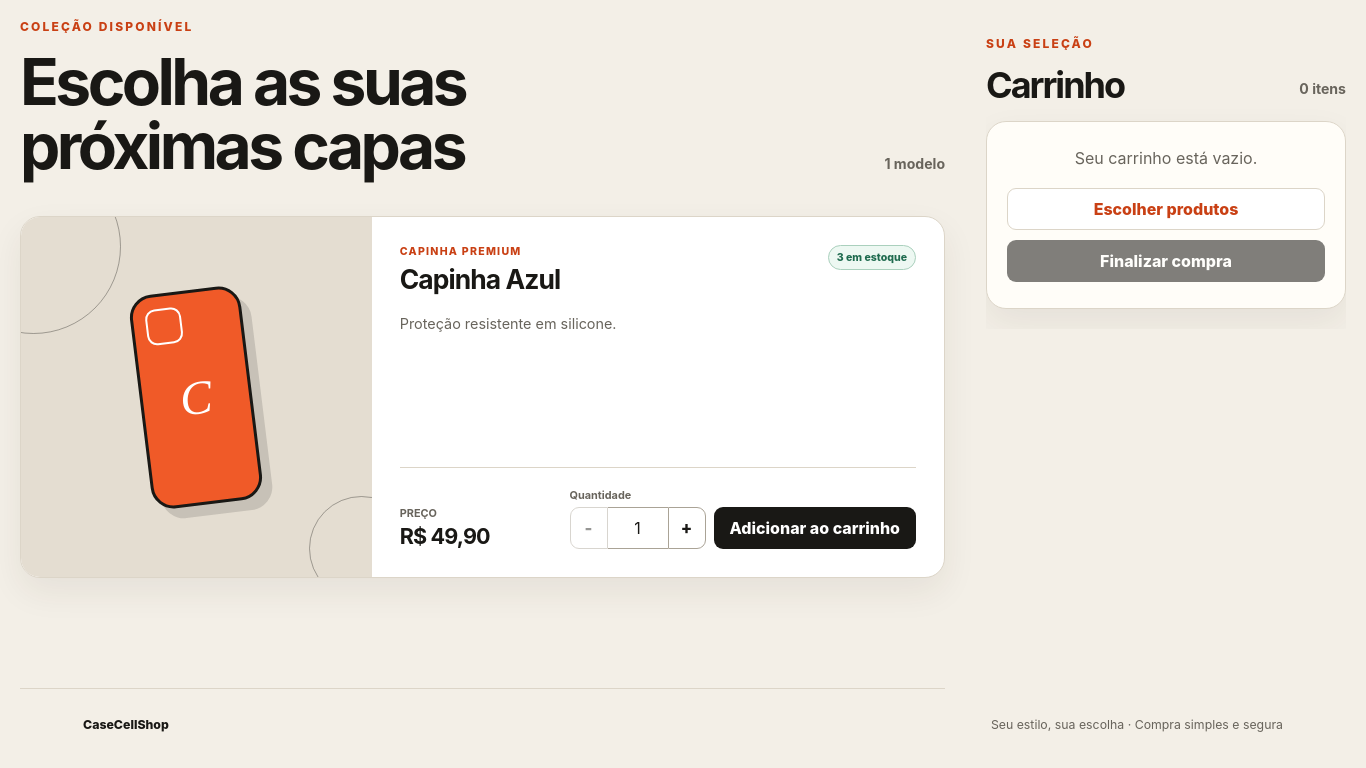
vitrine CaseCellShop › desabilita o checkout, evita envio duplicado e limpa após confirmação
(page scrolled)
Click the button "Adicionar ao carrinho": (815, 528) [714, 507, 916, 549]
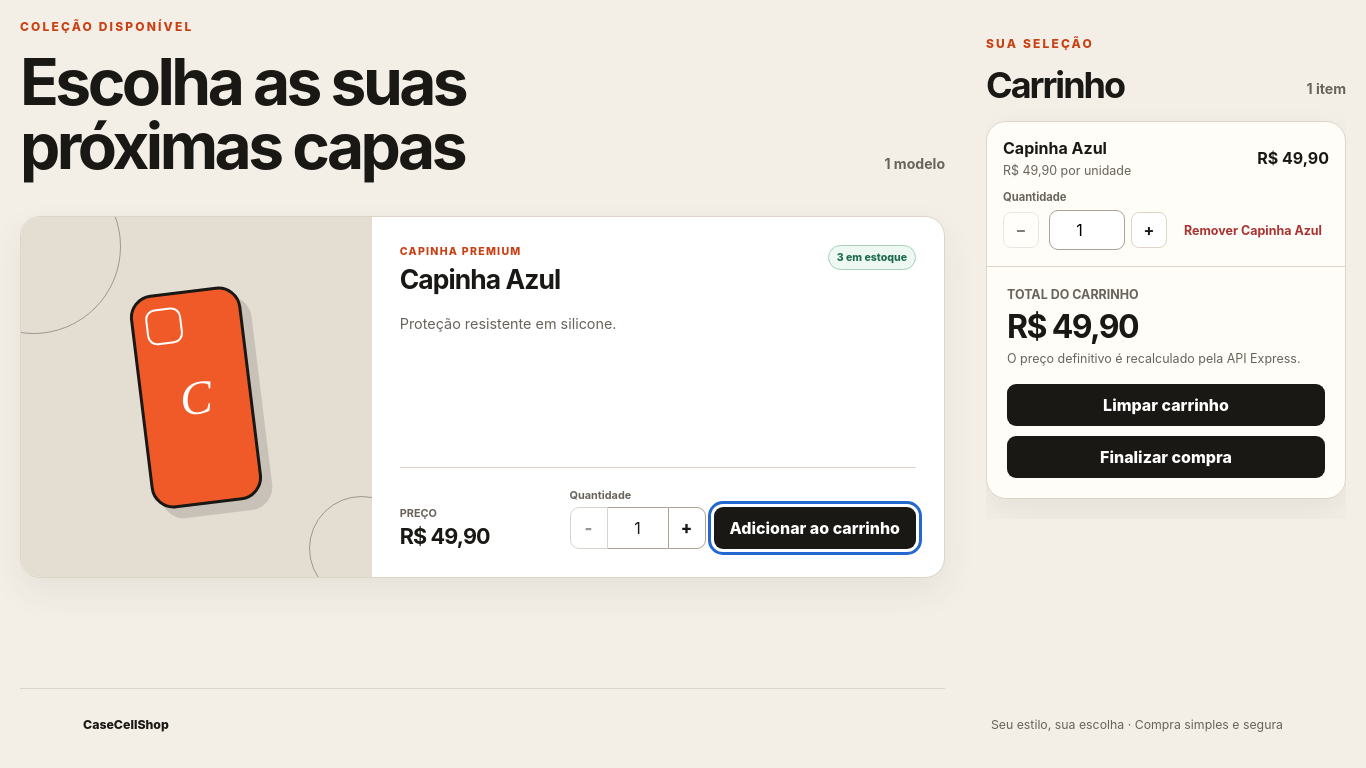
Click the button "Finalizar compra": (1166, 457) [1007, 436, 1325, 478]
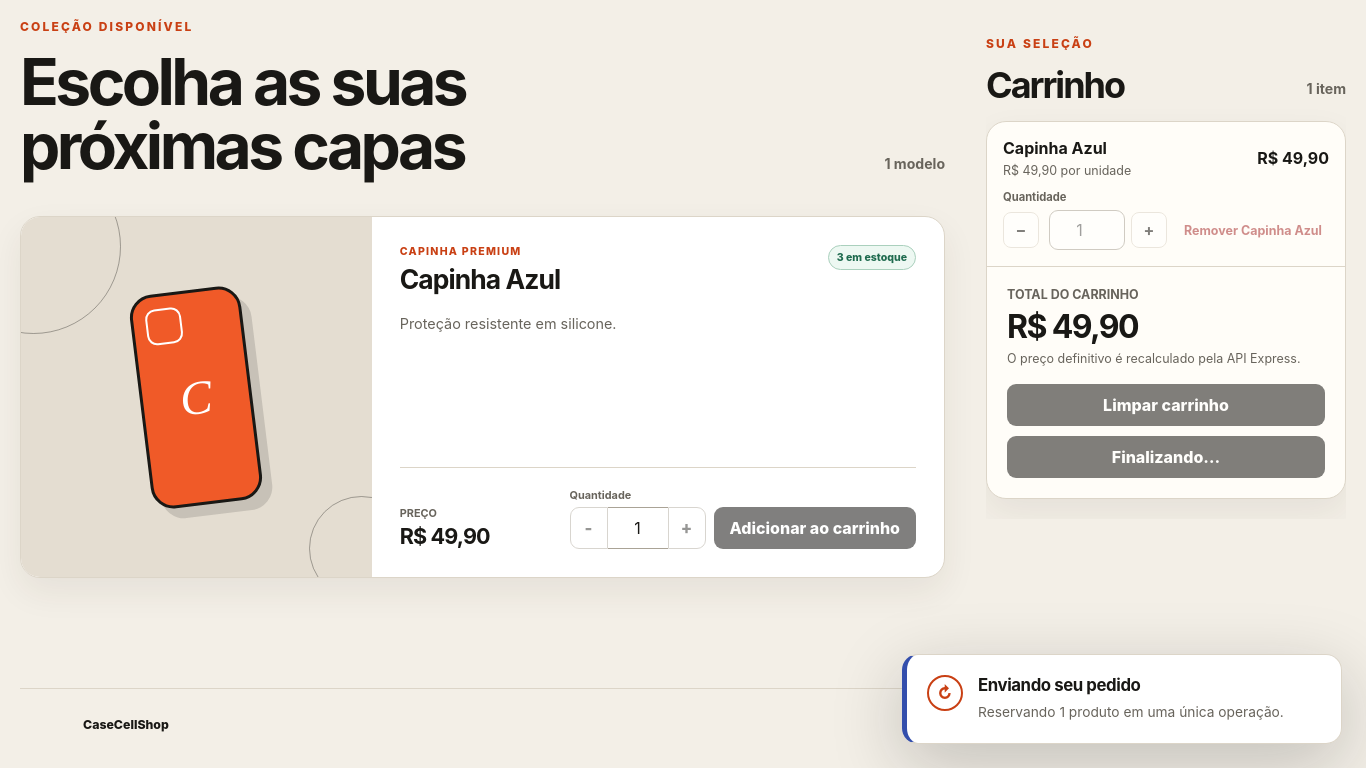
Check: the button "Finalizando…" is disabled
Check: the message shows "Enviando seu pedido", box [978, 675, 1140, 695]
Click the button "Finalizando…": (1166, 457) [1007, 436, 1325, 478]
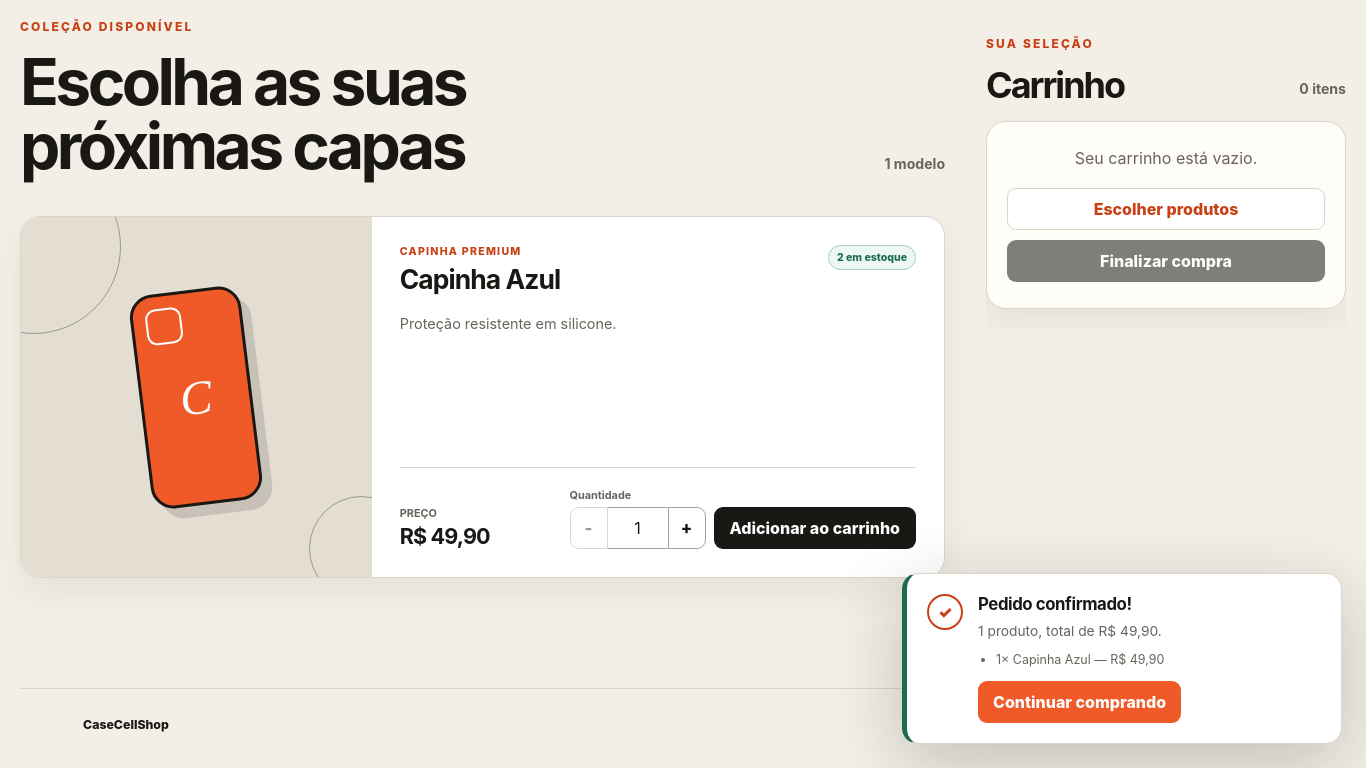
Check: the heading "Pedido confirmado!" is shown, box [978, 594, 1132, 614]
Check: the message shows "1 produto, total de R$ 49,90", box [902, 573, 1342, 744]
Check: the text "Seu carrinho está vazio." is shown, box [1075, 148, 1257, 168]
